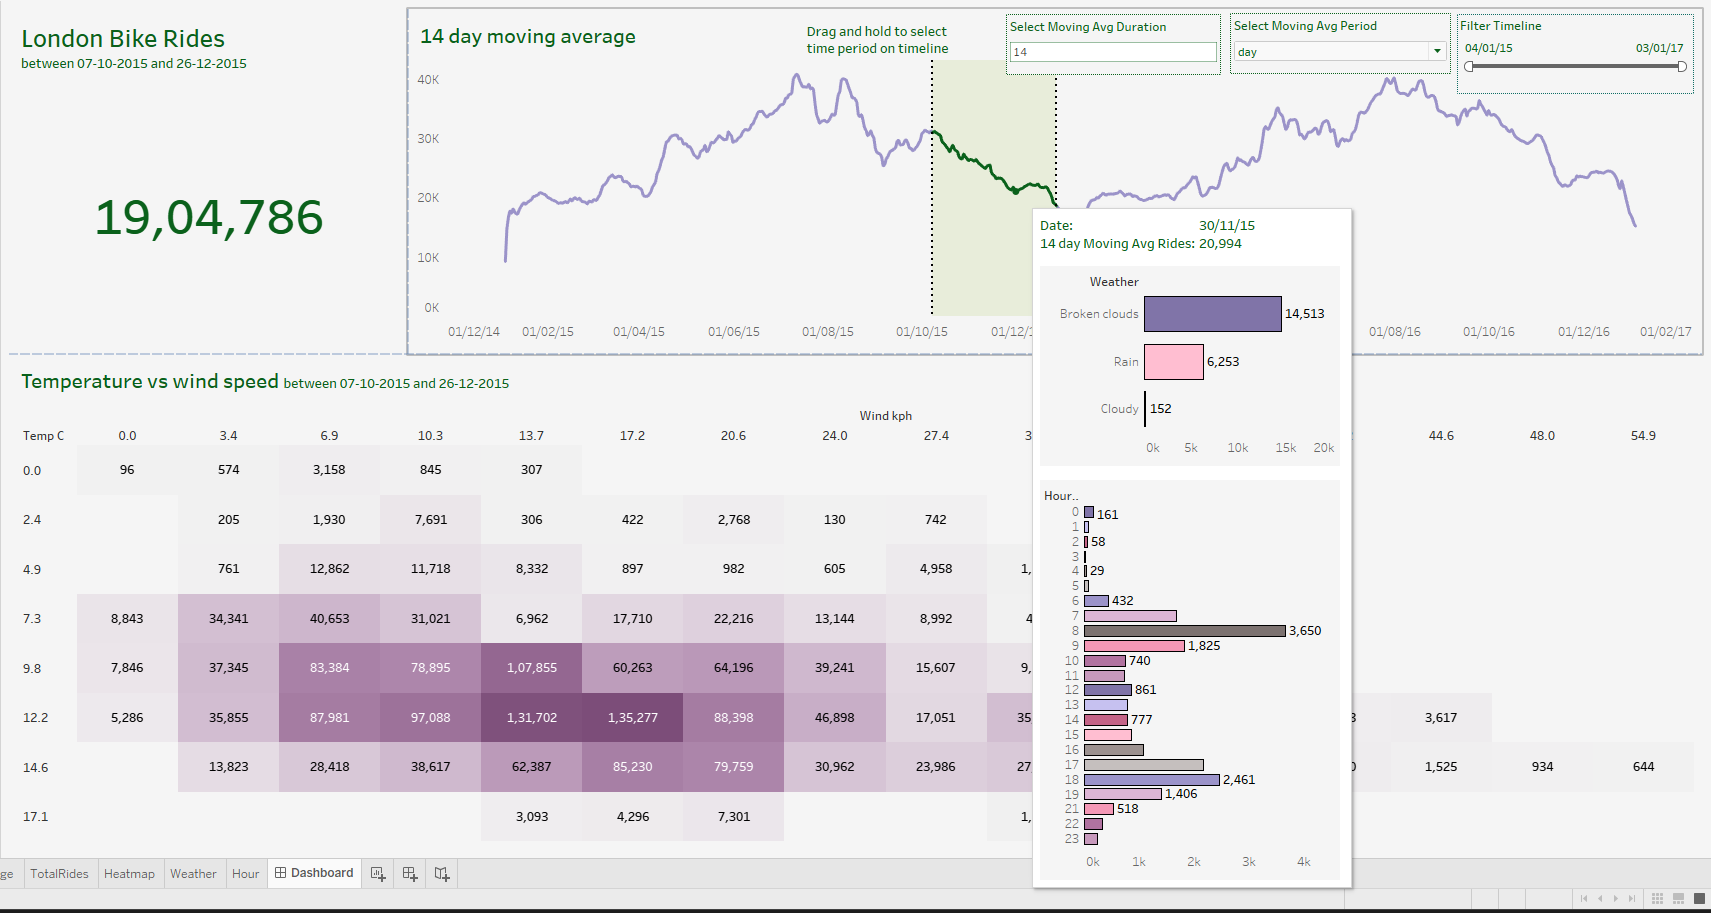

What the dashboard file says about the page in this screenshot:
{"tool":"tableau","page":{"name":"Dashboard","canvas":[1000,1000],"units":"permille","ordinal":0},"visuals":[{"type":"parameter","param":"[Parameters].[Parameter 3]","box":[716.7,9.1,134,80.7]},{"type":"worksheet","title":"TotalRides","mark":"Automatic","box":[4.7,9.4,233.3,403.2]},{"type":"worksheet","title":"MovingAverage","mark":"Automatic","rows":["Calculation1"],"cols":["Calculation_2560859404833579008"],"box":[238,9.4,757.3,403.2]},{"type":"parameter","param":"[Parameters].[Parameter 2]","box":[585.6,10.4,130.3,80.7]},{"type":"filter","title":"MovingAverage","param":"[federated.1btkpv91oruoe61fz4cnm1lloes8].[none:Calculation_2560859404833579008:q","box":[850.7,13,141.3,97.7]},{"type":"text","box":[467.8,15.6,116.4,59.9]},{"type":"worksheet","title":"Heatmap","mark":"Square","rows":["temp real C (bin)"],"cols":["Wind Speed Kph (bin)"],"box":[4.7,412.6,990.6,578]}]}

Visuals, with their boxes on the dashboard's canvas, which has no fixed pixel size, in thousandths of its width and height (x1, y1, x2, y2). These are canvas units, not pixel positions in the 1711x913 screenshot, which may show the page scaled, cropped or inside an application window:
parameter: region(717, 9, 851, 90)
"TotalRides" worksheet: region(5, 9, 238, 413)
"MovingAverage" worksheet: region(238, 9, 995, 413)
parameter: region(586, 10, 716, 91)
"MovingAverage" filter: region(851, 13, 992, 111)
text: region(468, 16, 584, 76)
"Heatmap" worksheet (Square marks): region(5, 413, 995, 991)
